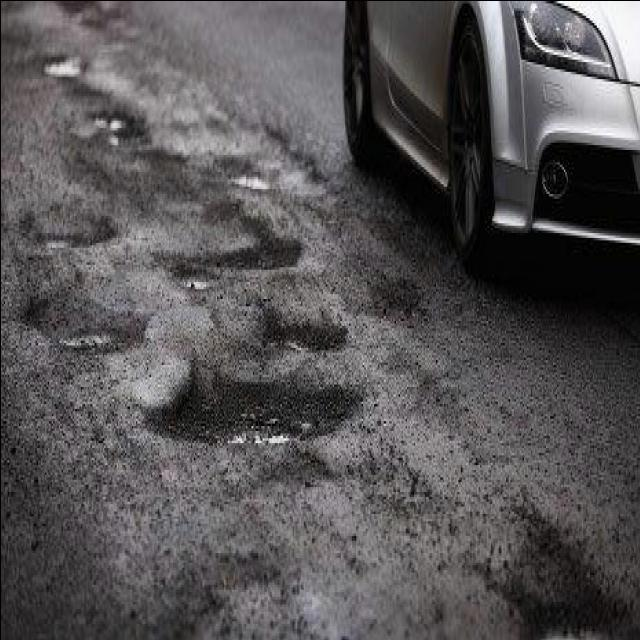jalan retak: (238, 90, 334, 198), (54, 0, 136, 34)
lubang: (137, 524, 331, 640), (487, 491, 626, 638), (46, 130, 274, 218), (136, 371, 364, 457), (252, 432, 354, 507), (12, 193, 128, 258), (20, 293, 130, 354), (201, 134, 283, 208), (208, 224, 298, 288), (255, 318, 351, 360), (88, 98, 147, 152), (366, 268, 420, 322), (169, 262, 215, 294), (40, 48, 86, 80)
